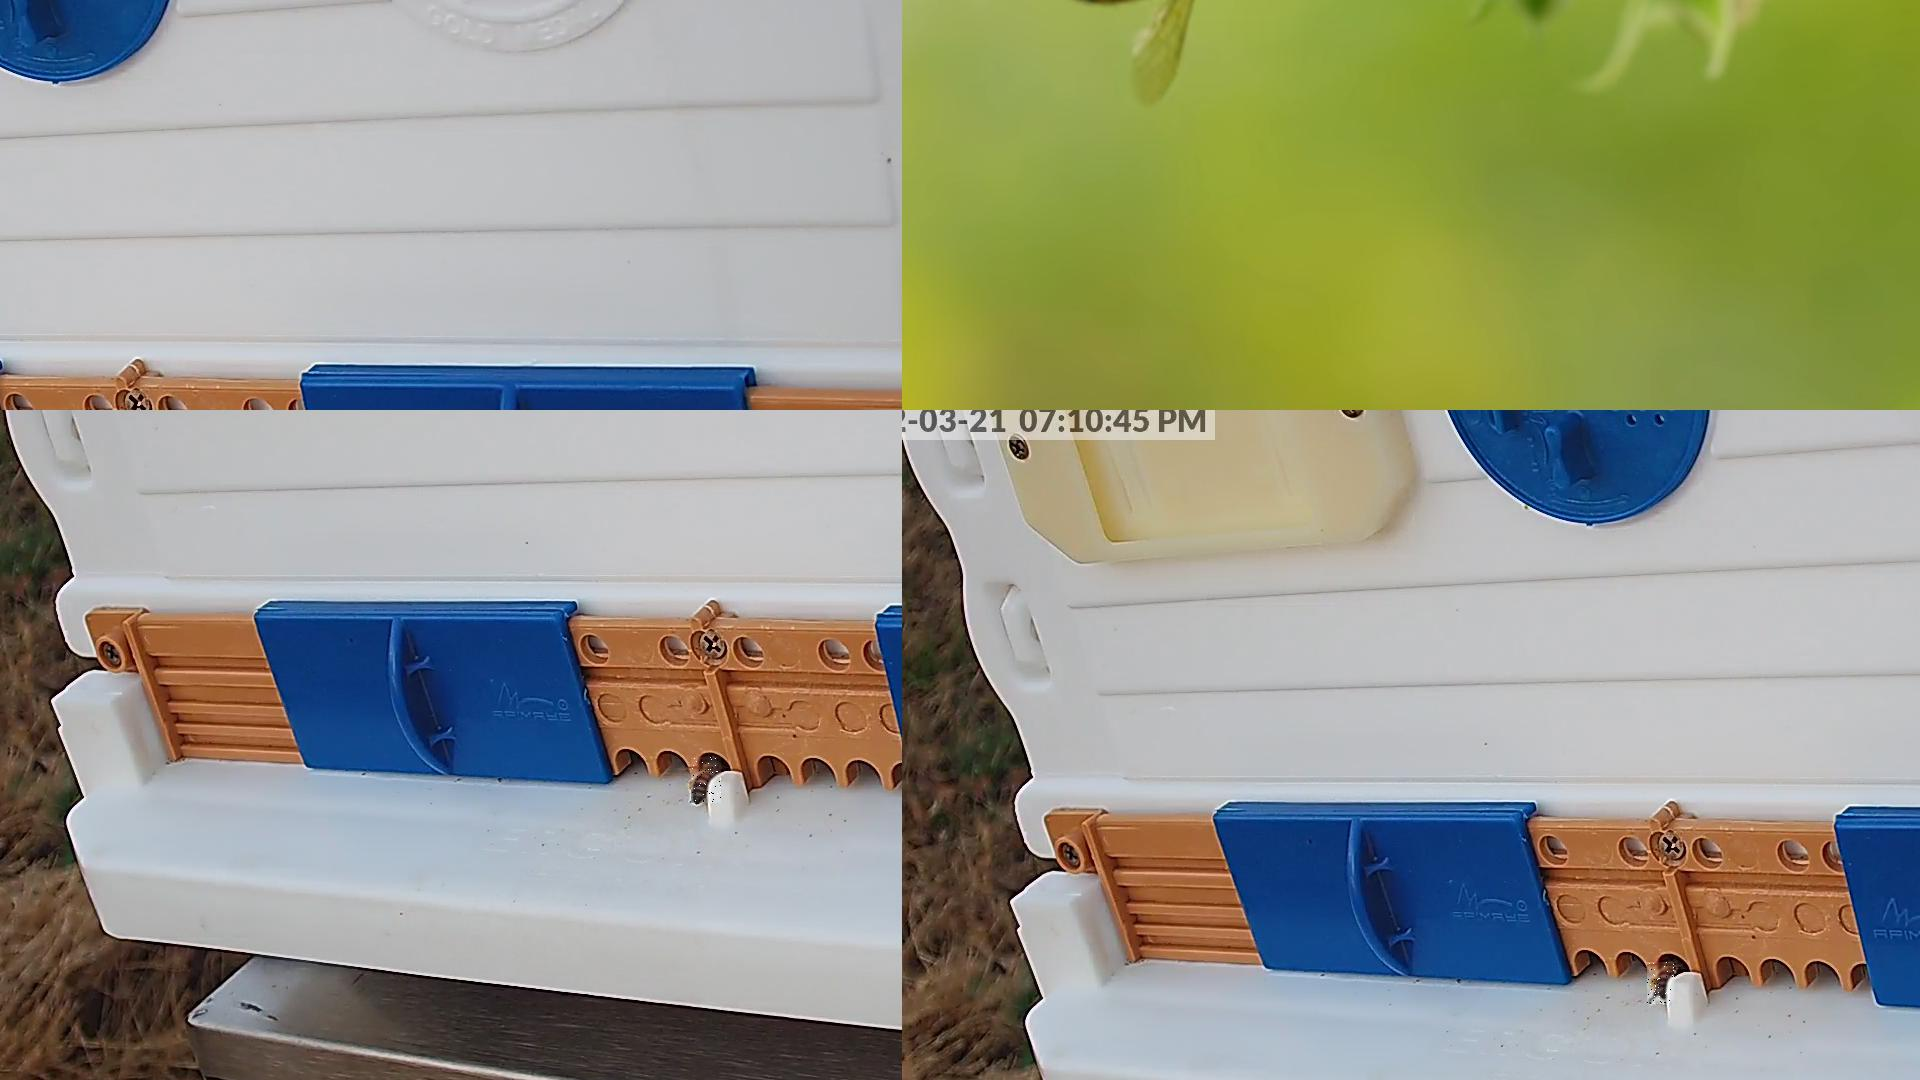bee: (691, 757, 723, 804)
pollenbee: (1647, 963, 1675, 1005)
